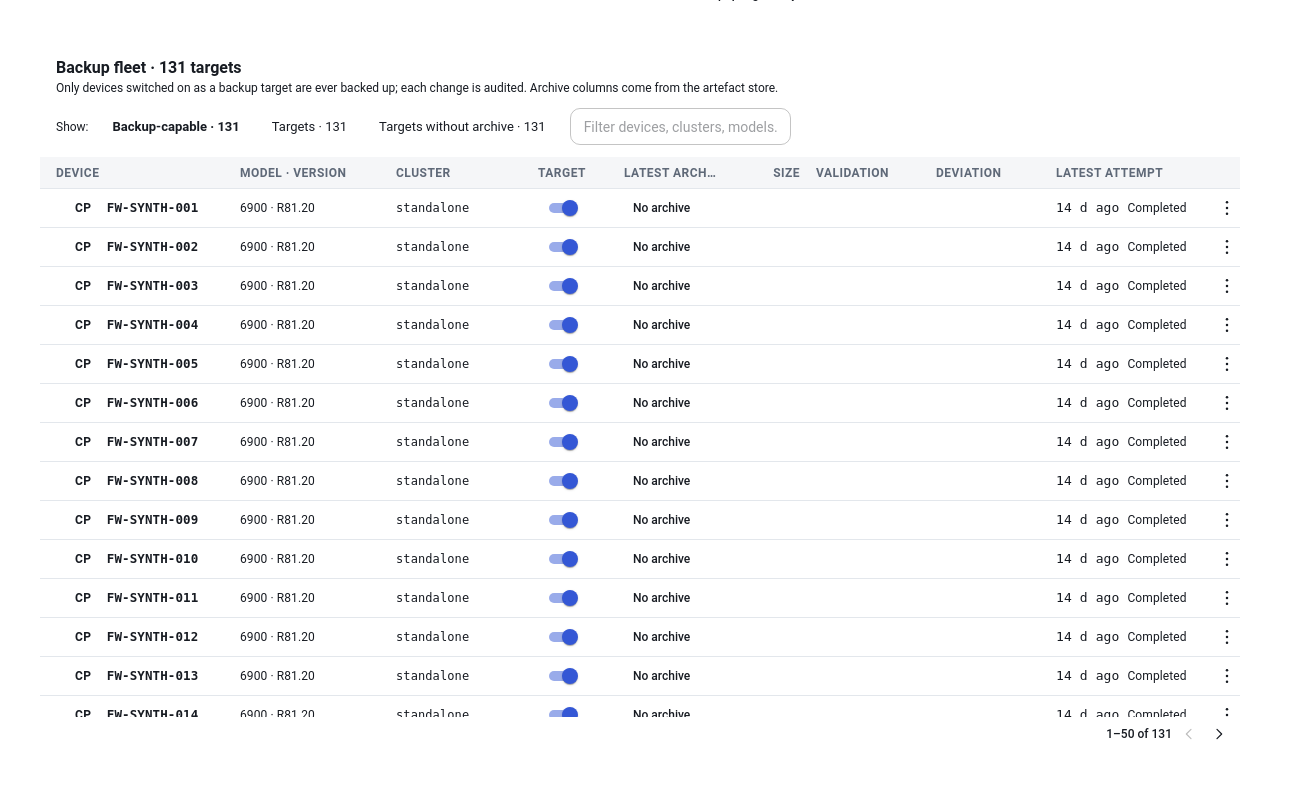
Scenario: pagination at 50 › returns to the first page when the filter changes
(page scrolled)
expect the text "FW-SYNTH-001" is shown: met, box [107,198,198,218]
Click the button named "Go to next page" at (1219, 734), box [1206,721,1232,747]
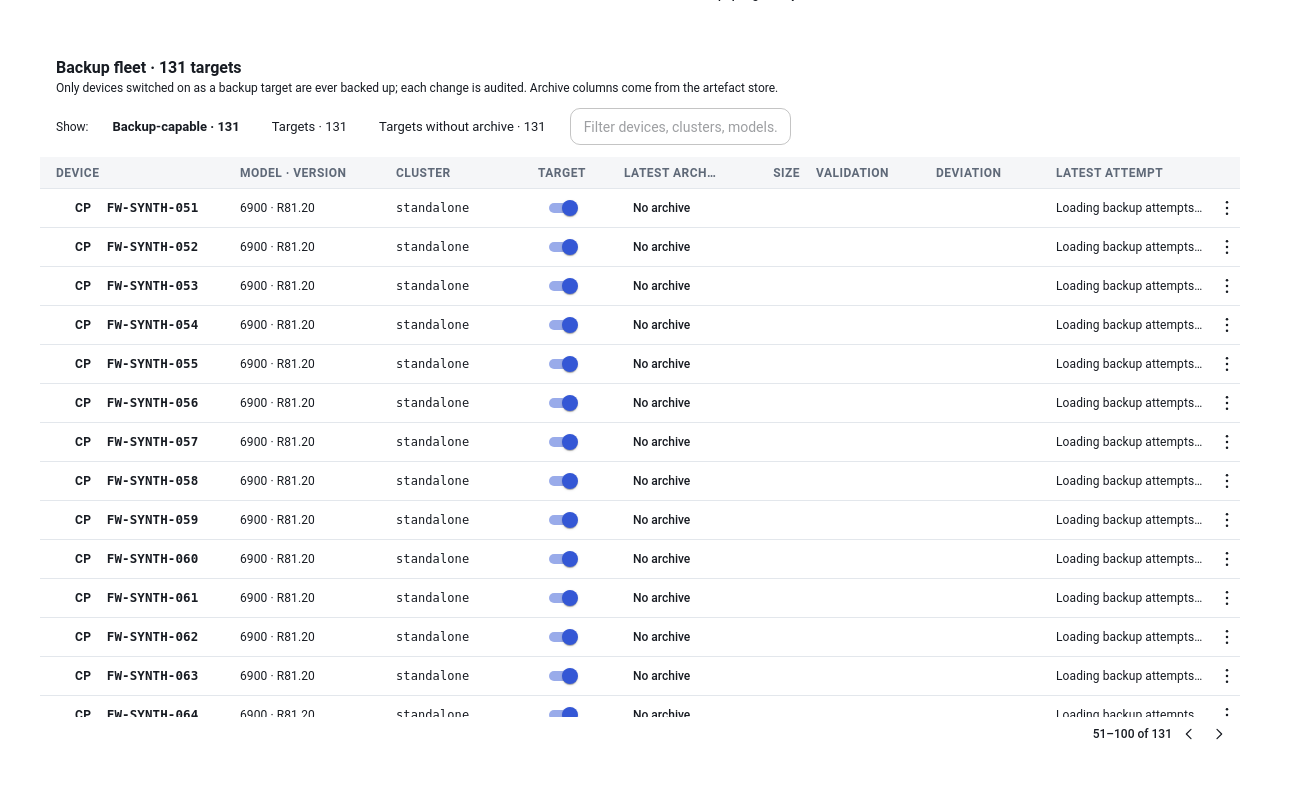
expect the text "51–100 of 131" is shown: met, box [1093,726,1172,742]
Type "SYNTH-12" into the field named "Filter the backup fleet" at (680, 127), box [570,108,791,145]
(page scrolled)
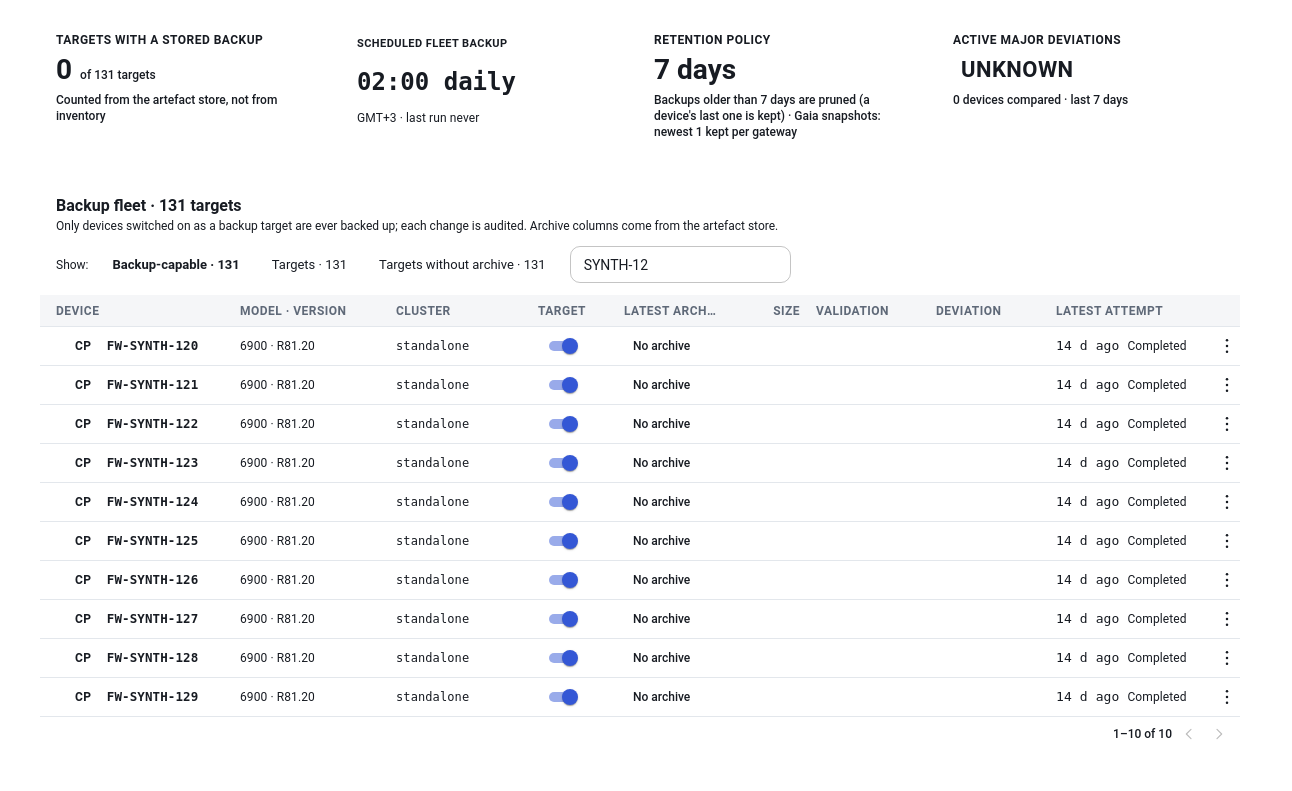
expect the text "1–10 of 10" is shown: met, box [1113,726,1172,742]
